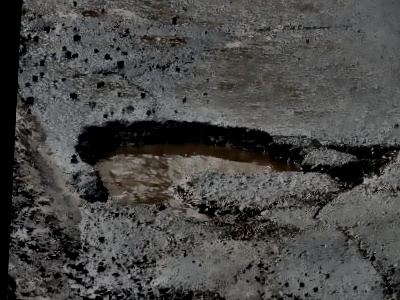pothole: (68, 112, 315, 227), (318, 139, 400, 196)
